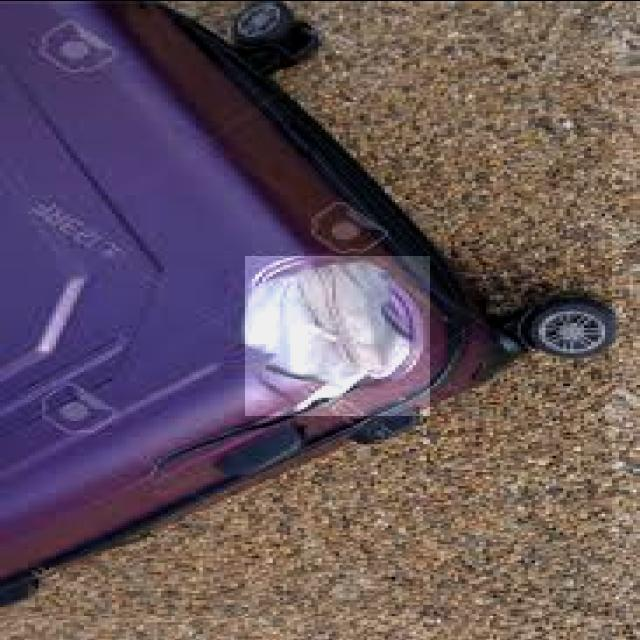Damage-bag: (246, 256, 421, 409)
